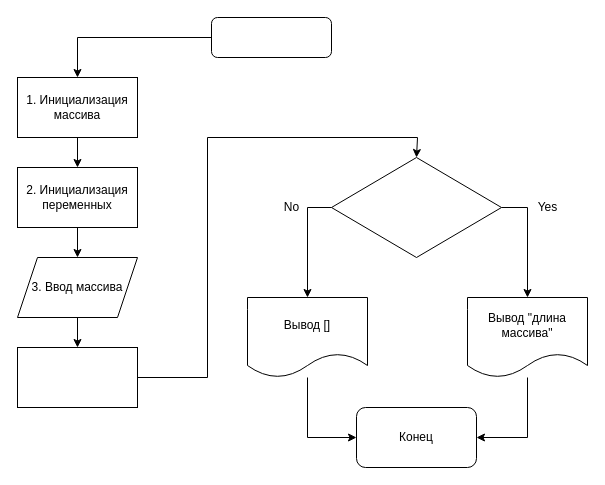
Image size: 605x485. Some labels were removed from this diagram. The centre of each missing label's shape, as x and y in pixels:
4. Проверка длины массива: point 77,377
5. Длина массива <=3 символа: point 416,207
Начало: point 271,37
